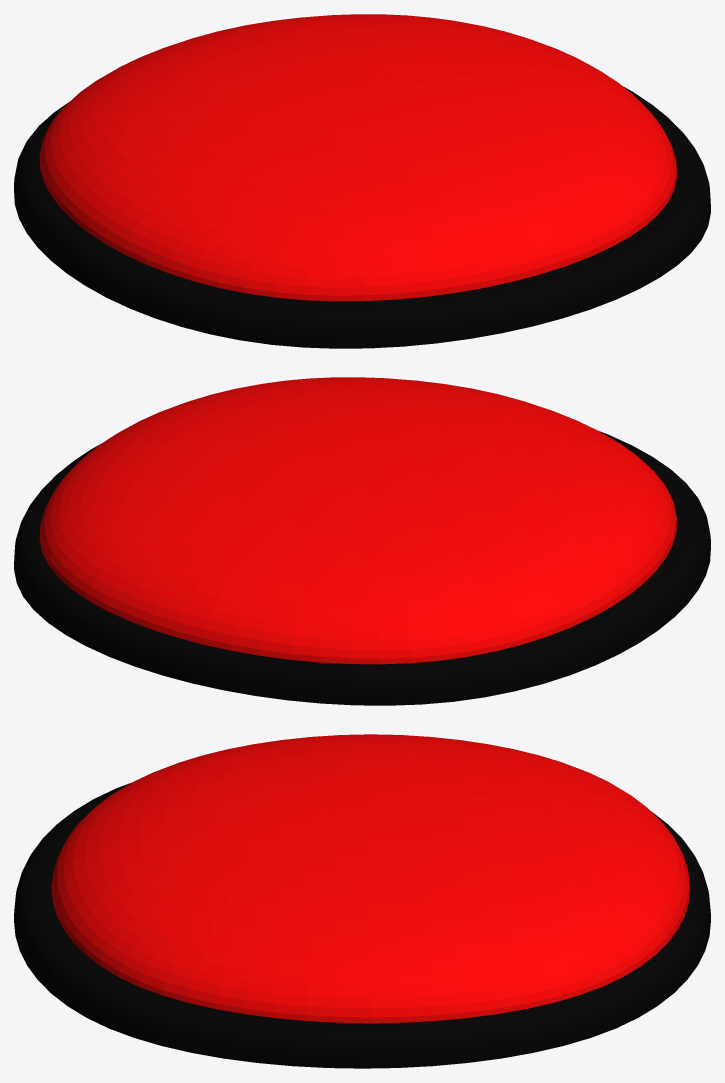
File: button-h.fbx
3 views of the same model, one above another, from view 1: azimuth 30°, elevation 25°; view 2: azimuth 150°, elevation 25°; view 3: azimuth 270°, elevation 25° (orthographic). The views are drawn at different scales.
Parts seen in each view (by area): view 1: Button, Base; view 2: Button, Base; view 3: Button, Base.
Boxes of the visible parts, x1,y1,x2,y2 form: Button: [39, 14, 677, 301]; Base: [14, 86, 710, 348]; Button: [39, 377, 677, 664]; Base: [14, 430, 710, 705]; Button: [51, 734, 690, 1023]; Base: [14, 782, 710, 1068].
Bounding box in the file's own units: 1.84 × 0.3007 × 1.84.
